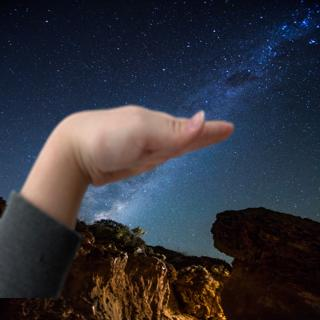Wait: (32, 106, 235, 189)
